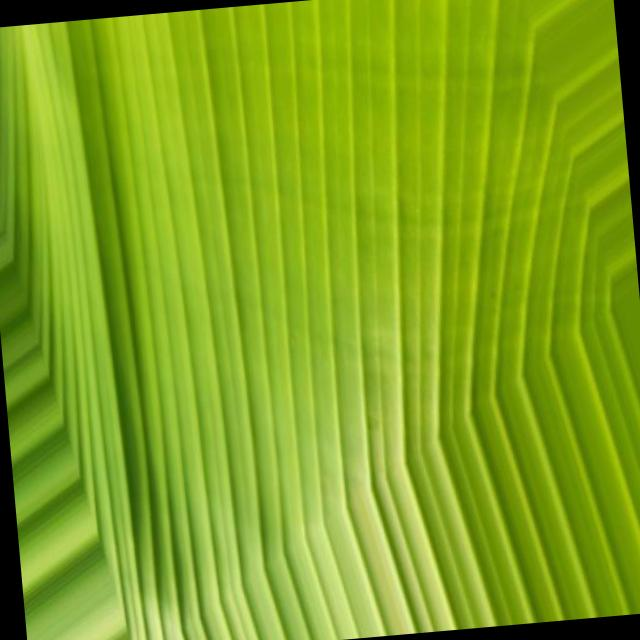Banana_Healthy: (133, 57, 640, 453)
